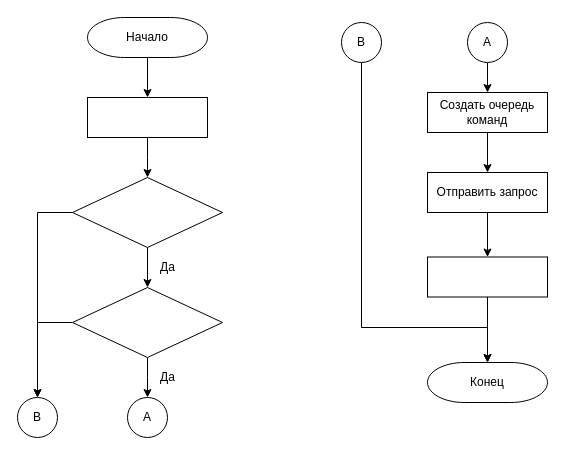
Image size: 565x455. Some labels were removed from this diagram. Here are the shapes that lost their labels. From the top down, the centre of each, then its label:
point 147,117: Блокировка мьютекса
point 147,212: Подключение безопасно для отправки запроса
point 487,276: Обновить статус соединения
point 147,322: Запрос корректен?
